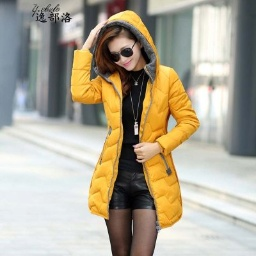face: (93, 24, 146, 73)
